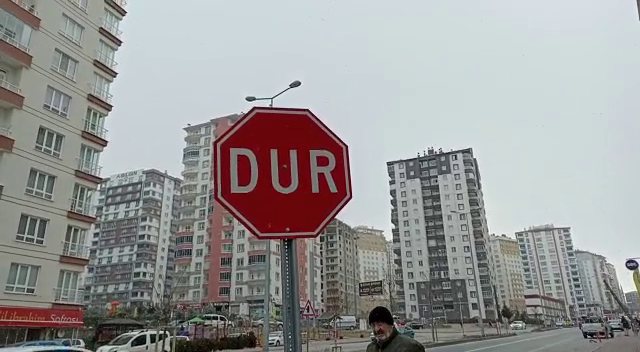stop: (210, 105, 355, 241)
